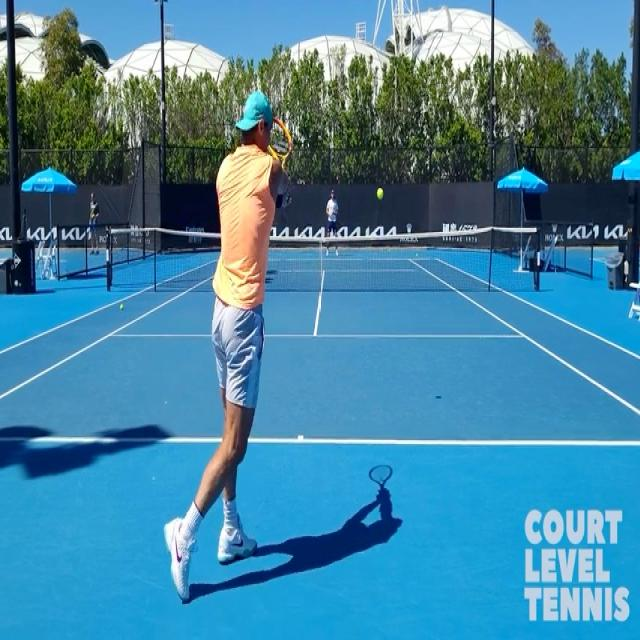backhand-stroke: (168, 93, 296, 611)
